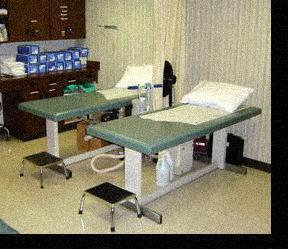Otro Obstaculo: (68, 182, 146, 233), (16, 153, 77, 190)
